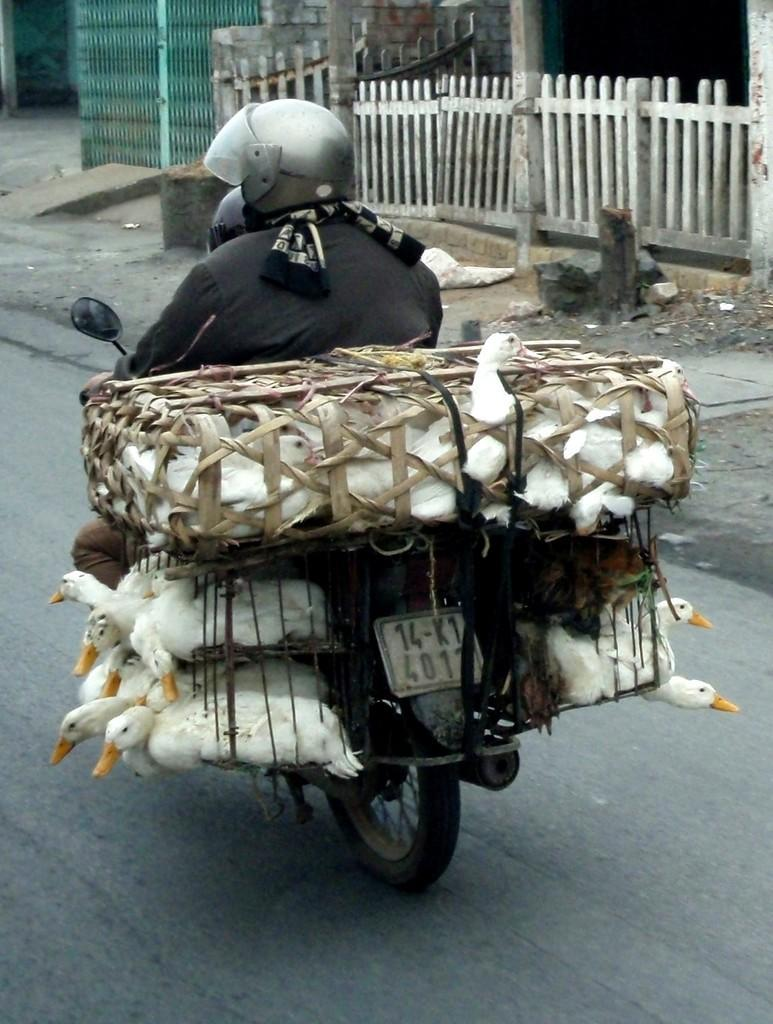helmet: (203, 95, 359, 219)
